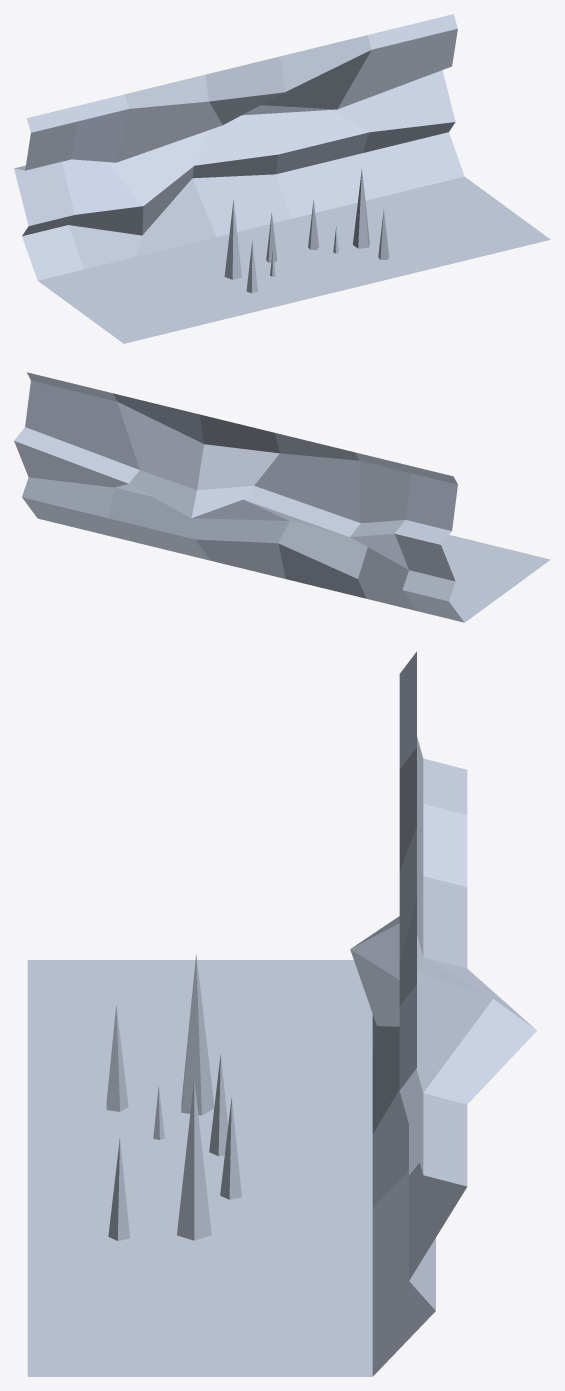
The model's file is radio_background.gltf.
The picture shows the model from 3 angles, top to bottom: view 1: azimuth 30°, elevation 25°; view 2: azimuth 150°, elevation 25°; view 3: azimuth 270°, elevation 25°; orthographic projection. The views are drawn at different scales.
Visible parts, largest first — view 1: radio_background, Cone.004, Cone; view 2: radio_background; view 3: radio_background, Cone.004, Cone, Cone.003, Cone.006, Cone.007, Cone.001.
Boxes of the visible parts, <box> form: radio_background: <box>14,14,550,343</box>; Cone.004: <box>353,169,369,248</box>; Cone: <box>224,199,241,279</box>; radio_background: <box>14,372,550,622</box>; radio_background: <box>27,651,536,1376</box>; Cone.004: <box>177,1079,211,1240</box>; Cone: <box>181,954,214,1115</box>; Cone.003: <box>106,1005,128,1111</box>; Cone.006: <box>108,1138,130,1240</box>; Cone.007: <box>220,1097,241,1199</box>; Cone.001: <box>209,1053,228,1156</box>.
Bounding box in the file's own units: 12.97 × 4.56 × 6.7.
